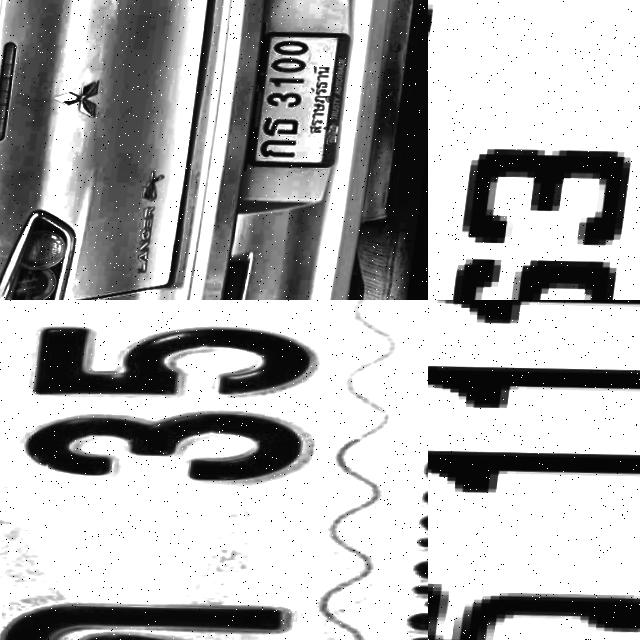license-plate: (0, 300, 428, 640), (428, 300, 640, 640), (428, 0, 640, 300), (246, 30, 354, 172)
